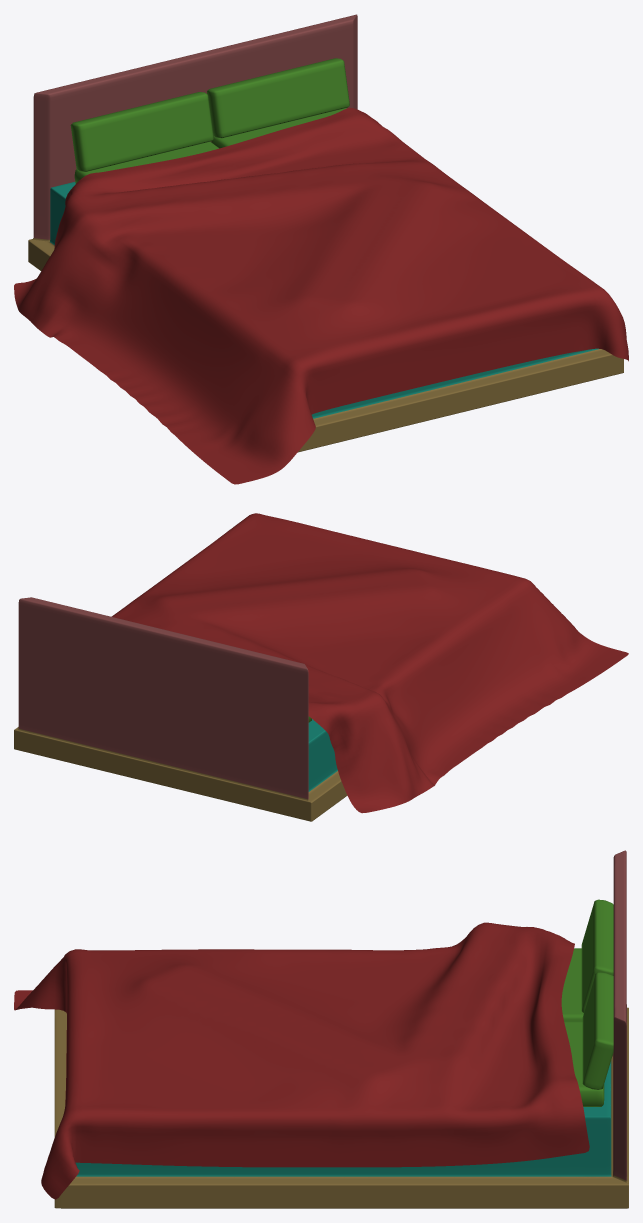
File: Bed.fbx
3 views of the same model, one above another, from view 1: azimuth 30°, elevation 25°; view 2: azimuth 150°, elevation 25°; view 3: azimuth 270°, elevation 25° (orthographic). The views are drawn at different scales.
Visible parts, largest first — view 1: Bed (×5); view 2: Bed (×4); view 3: Bed (×5).
Boxes of the visible parts, x1,y1,x2,y2 form: Bed (×5): (14, 14, 628, 484); Bed (×4): (14, 513, 628, 821); Bed (×5): (14, 850, 628, 1208).
Bounding box in the file's own units: 11.92 × 4.68 × 13.92.
